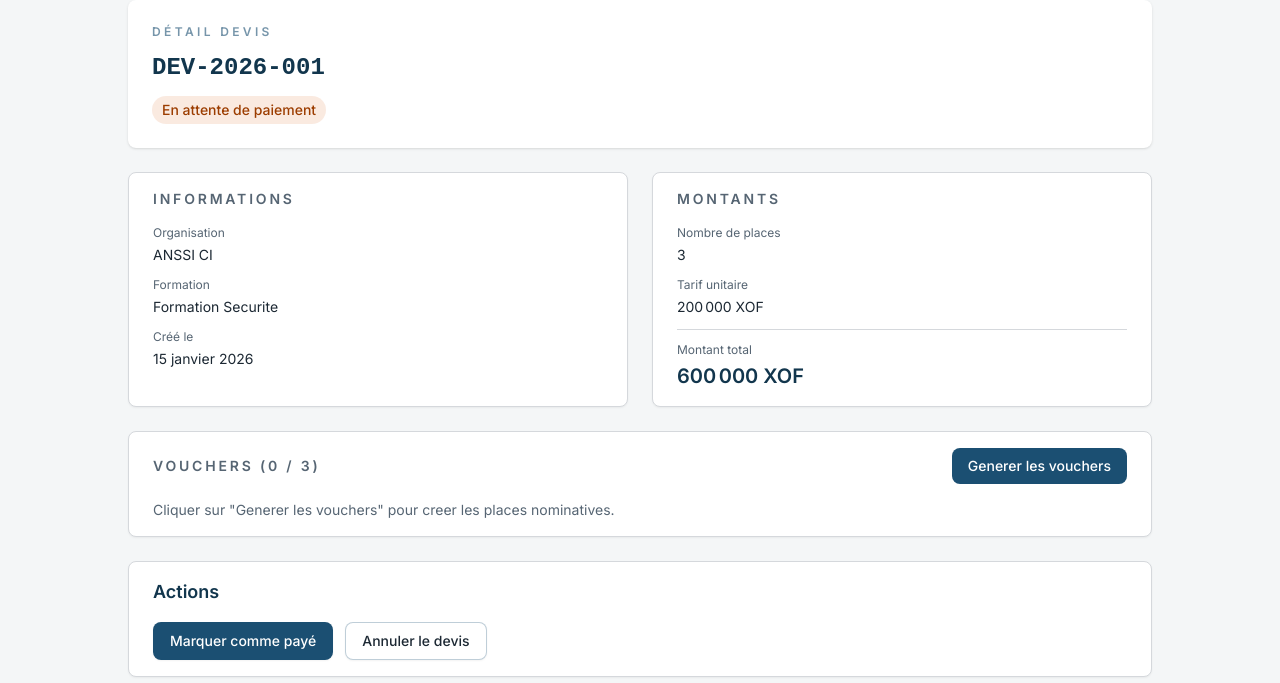
it: DevisDetail — section vouchers › appelle genererVouchers et recharge la liste au clic
Click the button with test id "btn-generer-vouchers". click: (1039, 466)
box: [952,448,1127,484]
(page scrolled)
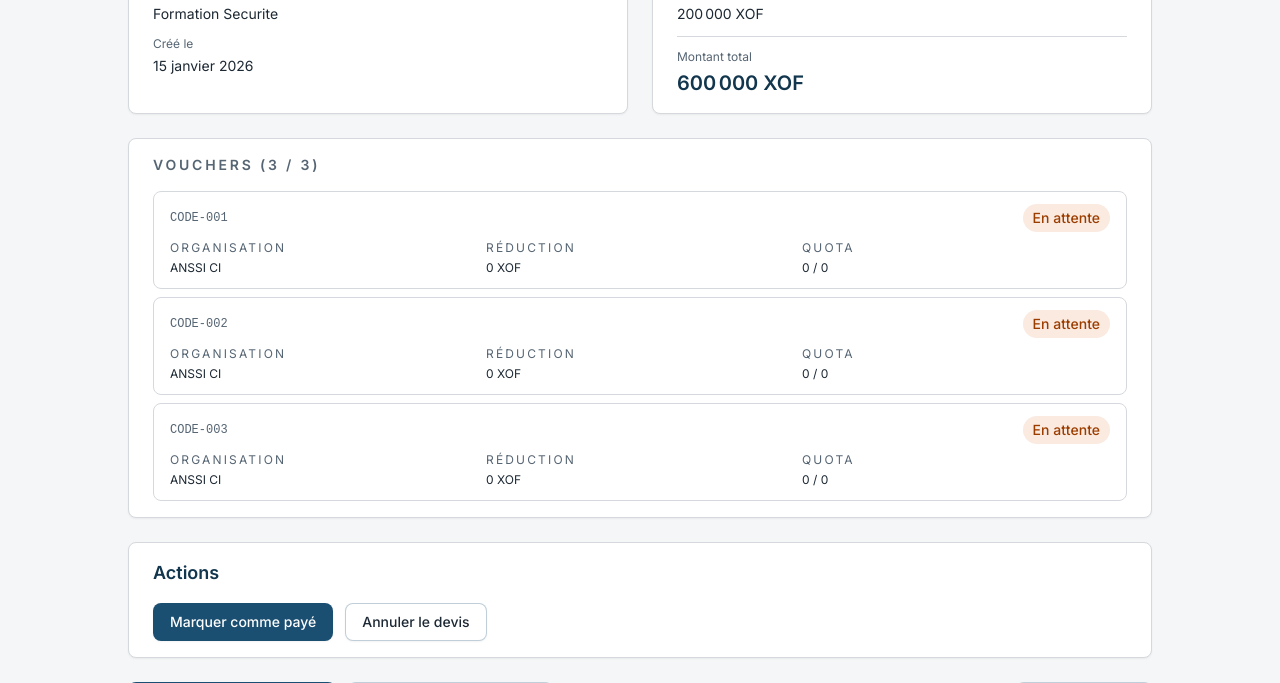
Result: the element with test id "vouchers-list" is shown at [153,191,1127,501]
Result: the element with test id "voucher-item-0" is shown at [153,191,1127,289]
Result: the element with test id "voucher-item-2" is shown at [153,403,1127,501]
